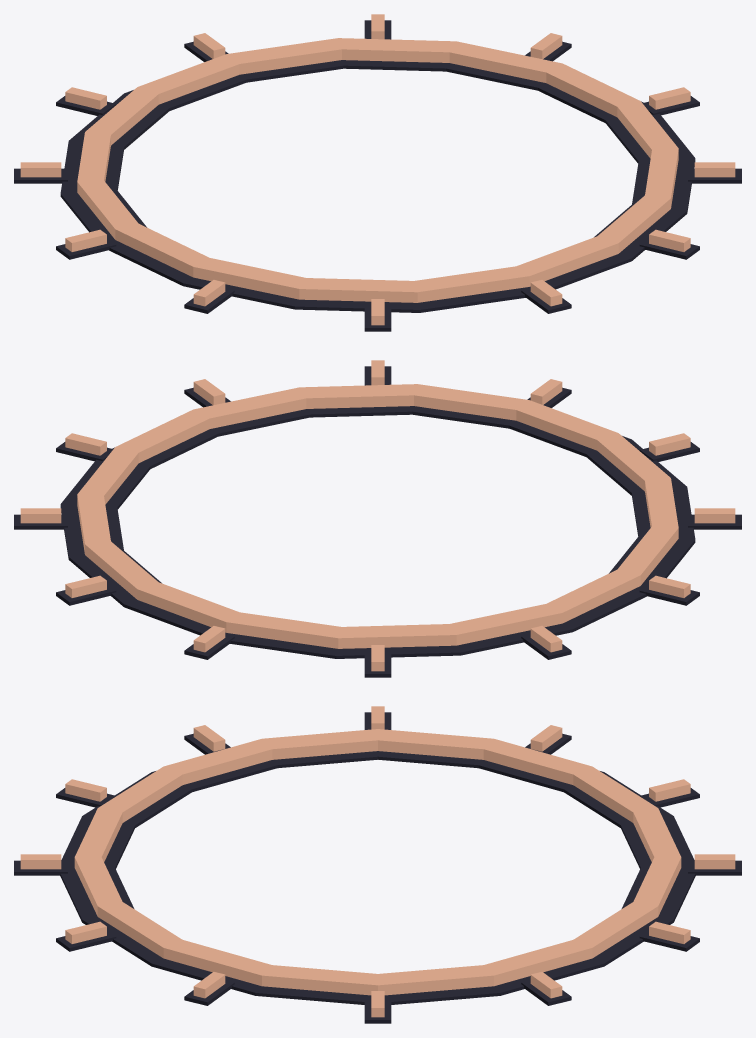
File: fx_wait_ring_old.glb
The picture shows the model from 3 angles, top to bottom: view 1: azimuth 30°, elevation 25°; view 2: azimuth 150°, elevation 25°; view 3: azimuth 270°, elevation 25°; orthographic projection.
Parts seen in each view (by area): view 1: fx_wait_ring_old; view 2: fx_wait_ring_old; view 3: fx_wait_ring_old.
Part boxes in pixels (x1=…): fx_wait_ring_old: x1=14, y1=14, x2=741, y2=331; fx_wait_ring_old: x1=14, y1=360, x2=741, y2=677; fx_wait_ring_old: x1=14, y1=706, x2=741, y2=1023.
Size of the model in its own units: 2.16 by 0.045 by 2.16.
